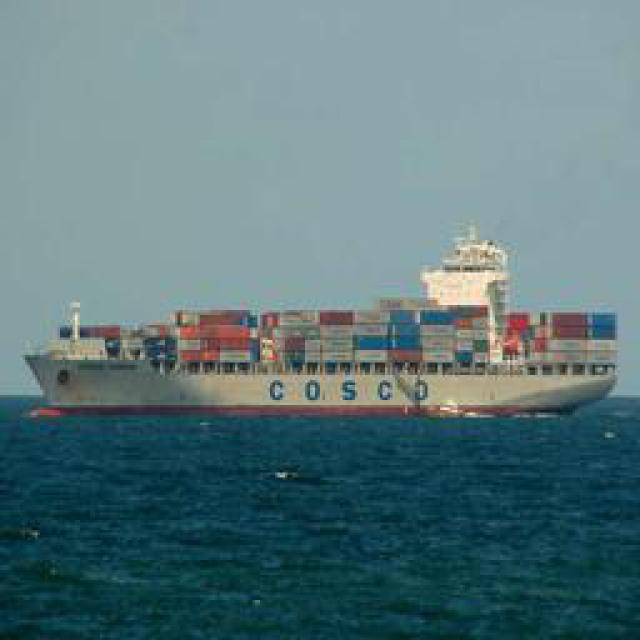Ship: (18, 249, 626, 424)
